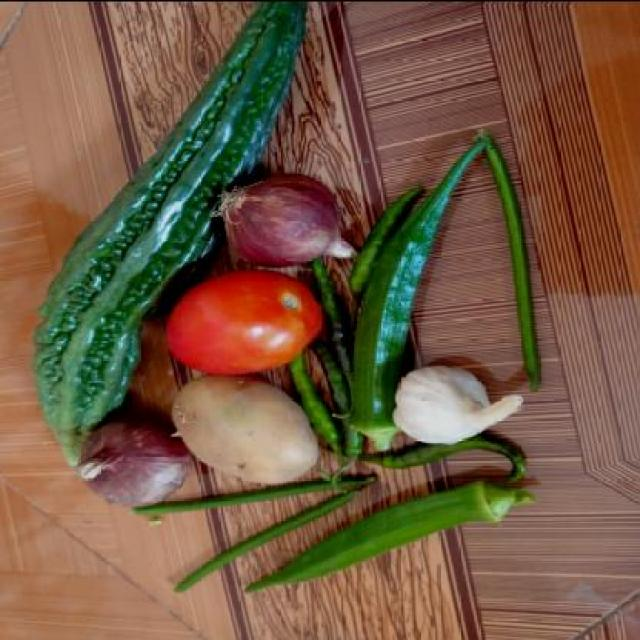Garlic: (389, 360, 523, 443)
Green Chili: (342, 176, 424, 290)
Lady finger: (234, 478, 541, 598), (346, 105, 439, 437)
Onion: (70, 409, 188, 517), (222, 170, 351, 268)
Potato: (175, 368, 312, 482)
Tomato: (164, 266, 324, 374)
